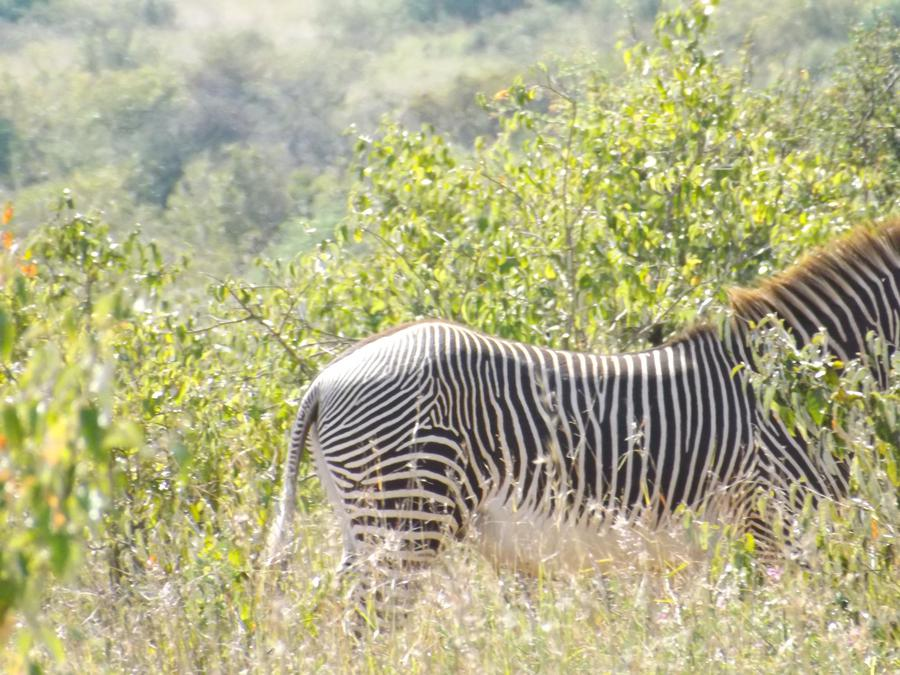zebra_grevys: (289, 303, 836, 564)
